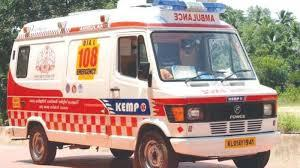ER: (7, 0, 280, 168)
